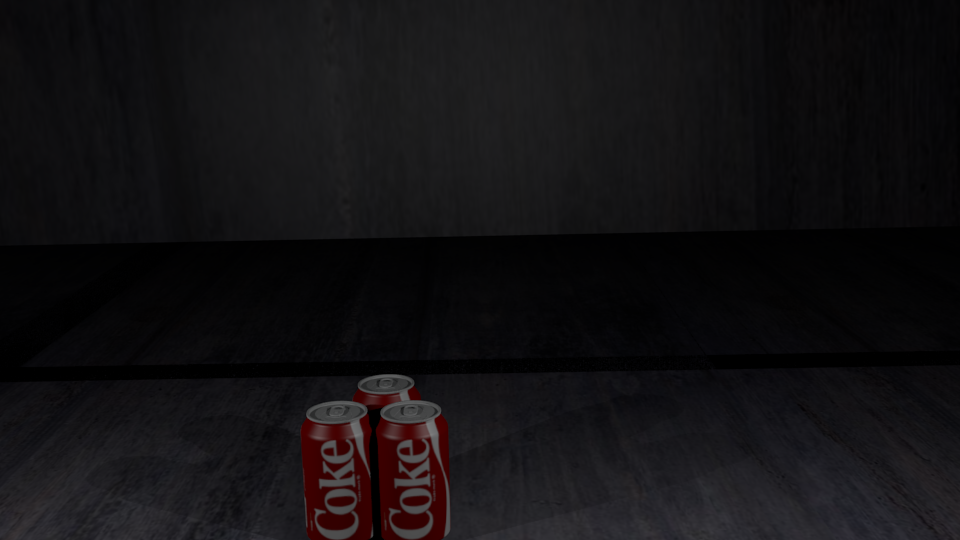cola_can: (301, 401, 376, 539), (375, 401, 449, 539), (353, 375, 420, 506)
